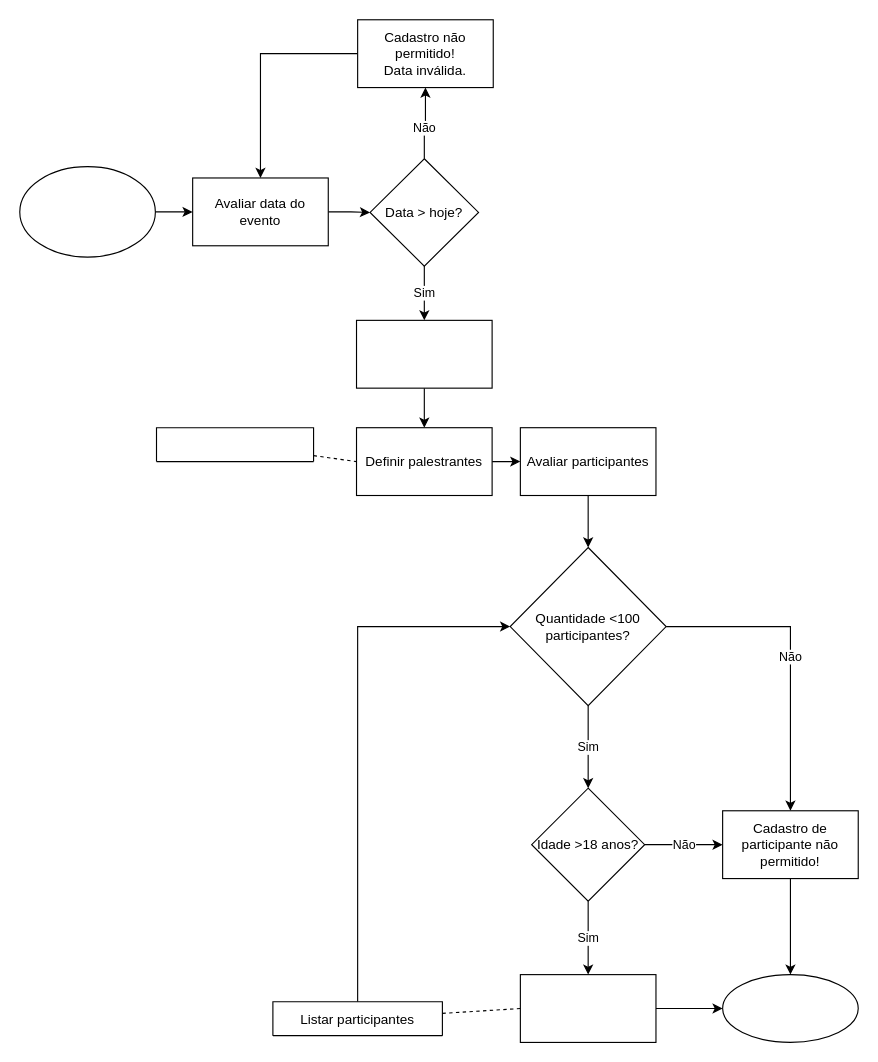
Image size: 878x1062. Some labels were removed from this diagram. The centre of each missing label's shape, as x and y in pixels:
"Cadastrar participante" goes at point 587,1007.
"Definir data do evento" goes at point 87,211.
"Evento cadastrado" goes at point 423,353.
"Fim" goes at point 790,1007.
"Listar palestrantes" goes at point 234,444.
